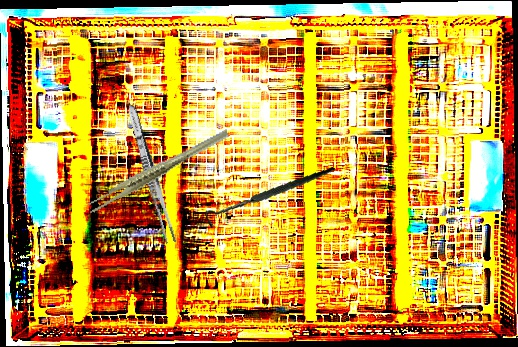Dressing Forceps: (123, 103, 179, 245)
Hook Surgical: (202, 152, 337, 243)
Tissue Forceps: (78, 128, 239, 214)
